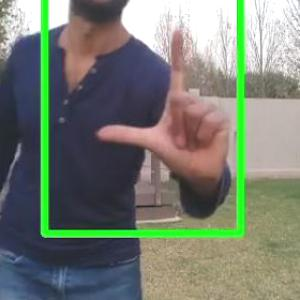land_hand: (97, 28, 234, 184)
